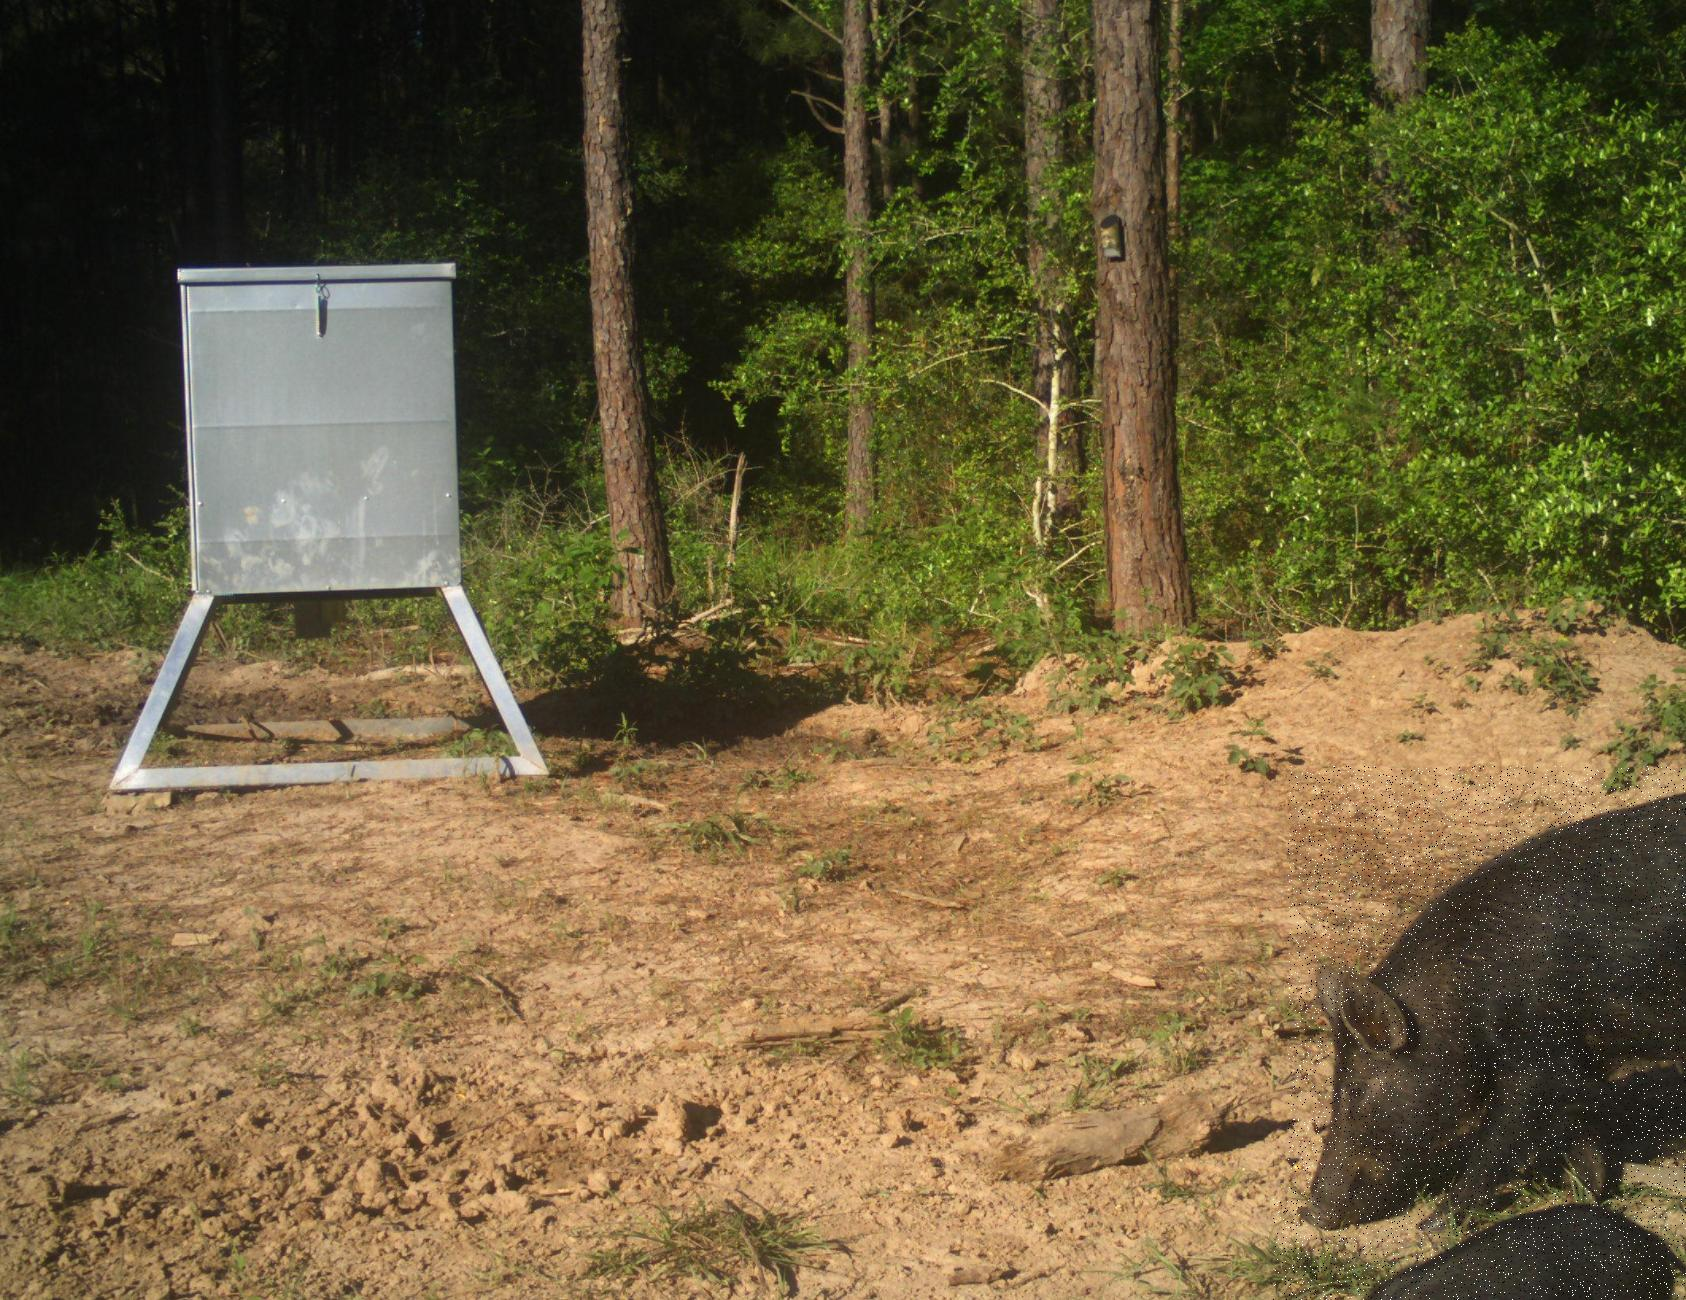Hog: (1287, 766, 1686, 1230), (1272, 1199, 1686, 1300)
